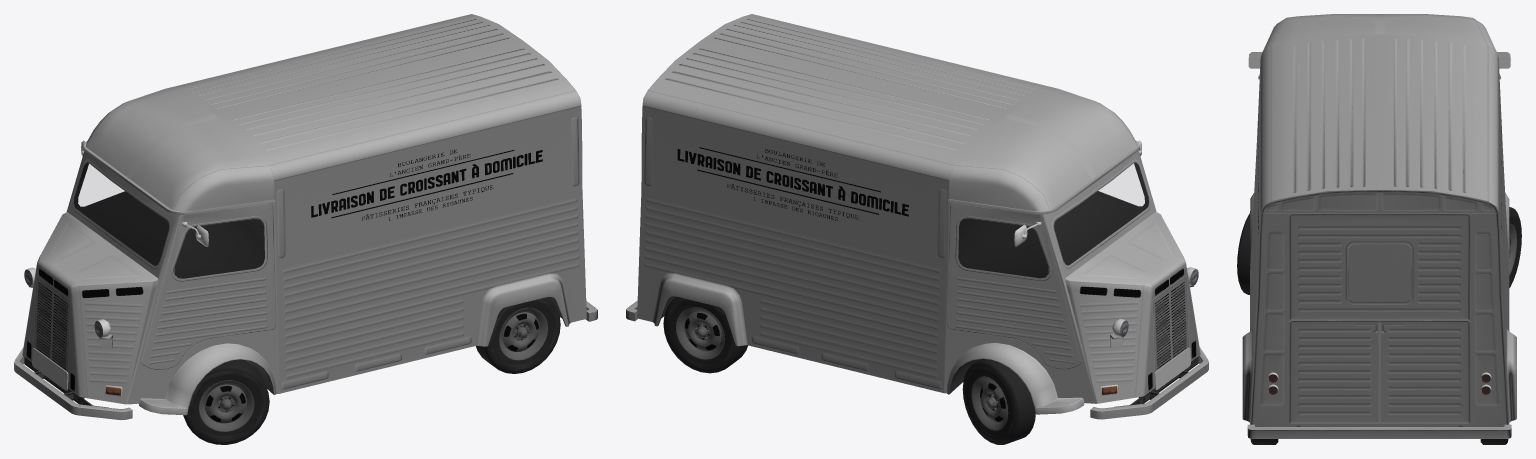
The model's file is frenchvan.glb.
3 views of the same model, side by side, from view 1: azimuth 30°, elevation 25°; view 2: azimuth 150°, elevation 25°; view 3: azimuth 270°, elevation 25° (orthographic). The views are drawn at different scales.
Parts seen in each view (by area): view 1: body_body_0, glass_glass_0, void_void_0, decals_Material #362_0, wheel_01_tire_0, wheel_02_tire_0, wheel_01_rims_0, wheel_02_rims_0, bumpers_body_0, bottom_Material #361_0, chrome_chrome_0; view 2: body_body_0, glass_glass_0, void_void_0, decals_Material #362_0, wheel_003_tire_0, wheel_004_tire_0, wheel_004_rims_0, bumpers_body_0, wheel_003_rims_0, bottom_Material #361_0, chrome_chrome_0; view 3: body_body_0, bumpers_body_0, wheel_01_tire_0, chrome_chrome_0, wheel_003_tire_0, wheel_003_rims_0.
Boxes of the visible parts, x1,y1,x2,y2 form: body_body_0: [22, 14, 586, 415]; glass_glass_0: [74, 163, 264, 277]; void_void_0: [74, 163, 264, 278]; decals_Material #362_0: [311, 149, 542, 220]; wheel_01_tire_0: [183, 359, 269, 444]; wheel_02_tire_0: [476, 297, 560, 373]; wheel_01_rims_0: [199, 380, 254, 431]; wheel_02_rims_0: [499, 307, 548, 360]; bumpers_body_0: [14, 301, 597, 419]; bottom_Material #361_0: [24, 297, 566, 407]; chrome_chrome_0: [26, 140, 208, 396]; body_body_0: [637, 14, 1200, 414]; glass_glass_0: [959, 163, 1148, 277]; void_void_0: [958, 162, 1148, 278]; decals_Material #362_0: [677, 147, 908, 220]; wheel_003_tire_0: [962, 359, 1035, 444]; wheel_004_tire_0: [663, 296, 747, 373]; wheel_004_rims_0: [676, 307, 724, 359]; bumpers_body_0: [626, 301, 1208, 419]; wheel_003_rims_0: [971, 376, 1008, 430]; bottom_Material #361_0: [657, 296, 1198, 406]; chrome_chrome_0: [1014, 140, 1196, 395]; body_body_0: [1242, 14, 1516, 426]; bumpers_body_0: [1247, 424, 1511, 438]; wheel_01_tire_0: [1237, 213, 1250, 294]; chrome_chrome_0: [1248, 51, 1510, 391]; wheel_003_tire_0: [1509, 207, 1521, 287]; wheel_003_rims_0: [1509, 223, 1516, 275].
Size of the model in its own units: 165 by 87.17 by 79.69.
Materials: 9 (6 with a texture image).
